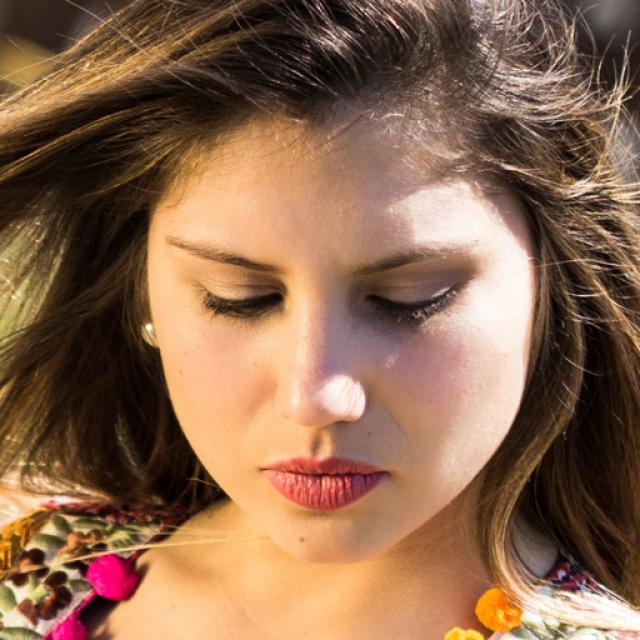sad: (145, 82, 538, 567)
